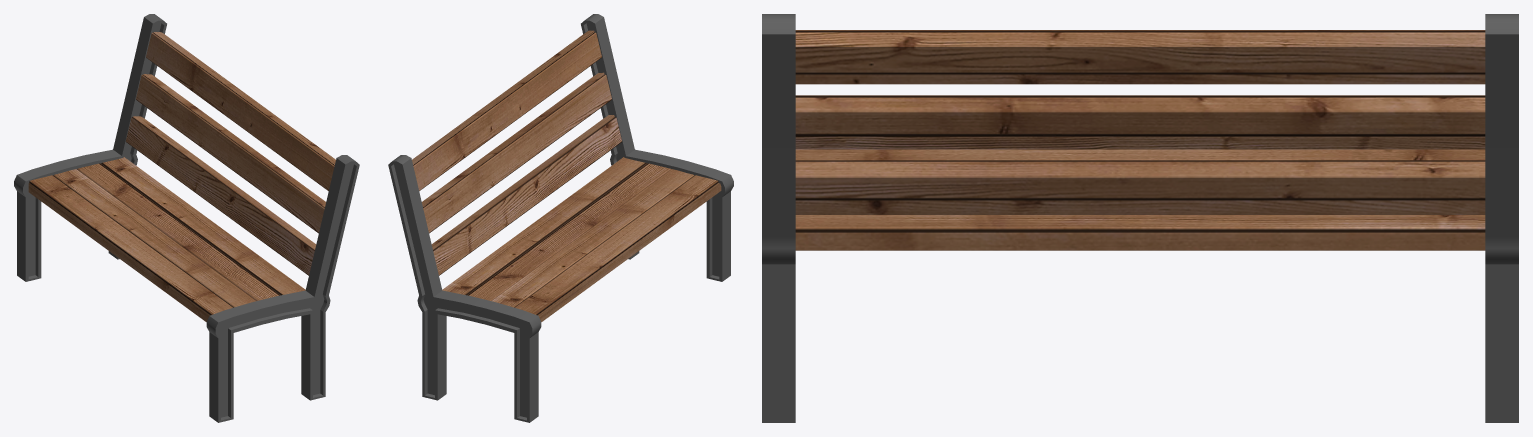
Rendered from Prop_Chair.fbx.
3 renders of one model, left to right at view 1: azimuth 30°, elevation 25°; view 2: azimuth 150°, elevation 25°; view 3: azimuth 270°, elevation 25°, orthographic. The views are drawn at different scales.
Visible parts, largest first — view 1: Prop_Chair; view 2: Prop_Chair; view 3: Prop_Chair.
Part boxes in pixels (bbox=[...]): Prop_Chair: bbox=[14, 14, 359, 422]; Prop_Chair: bbox=[388, 14, 733, 422]; Prop_Chair: bbox=[762, 14, 1518, 422].
Size of the model in its own units: 58.15 by 88.3 by 141.
Materials: 2 (1 with a texture image).
